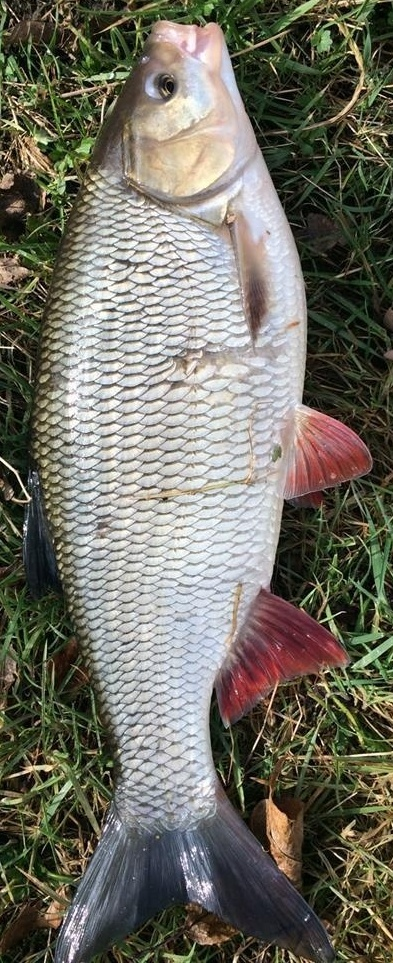Leuciscus idus: (20, 20, 373, 963)
